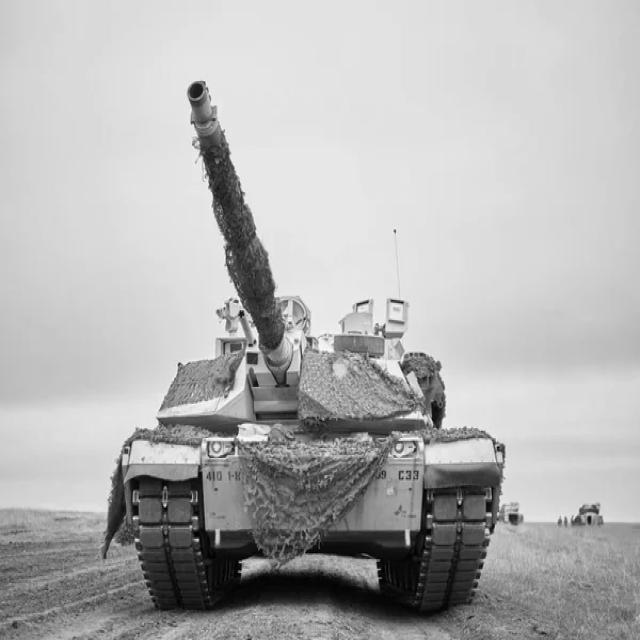Tank: (109, 74, 509, 613)
